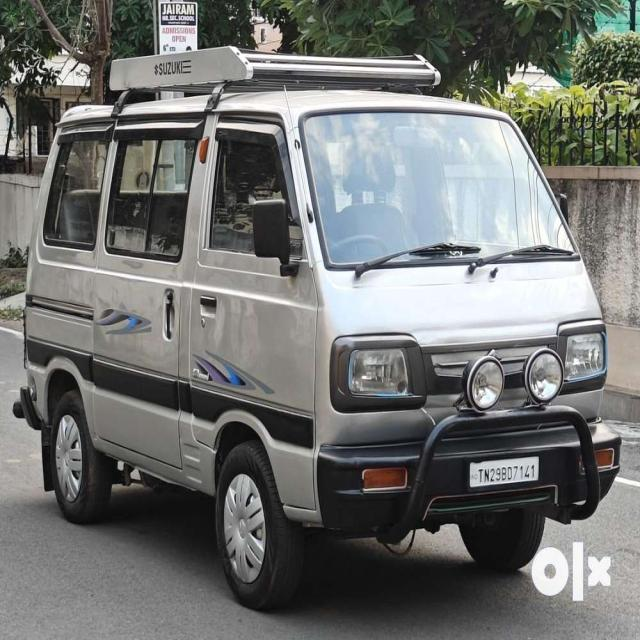Ambulance: (11, 40, 625, 616), (1, 320, 638, 636)
